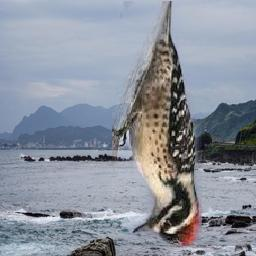Woodpecker: (112, 2, 202, 247)
